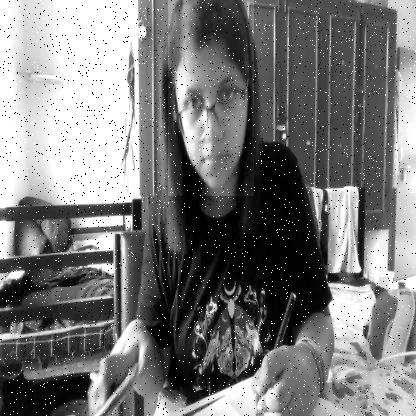Normal: (168, 0, 254, 196)
